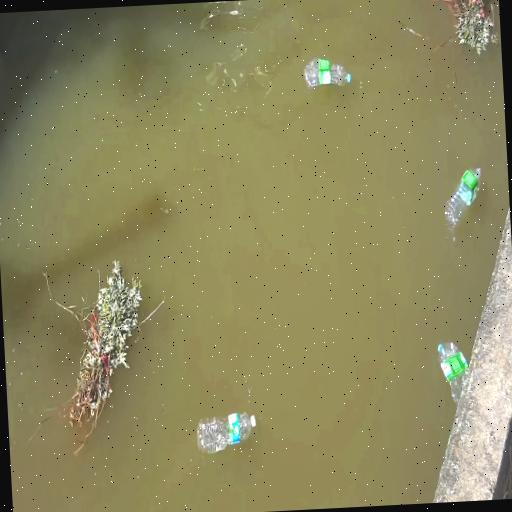plastic: (197, 413, 256, 453), (445, 168, 481, 229), (438, 343, 467, 404), (304, 58, 351, 87), (250, 415, 256, 427)
twig: (43, 260, 164, 453), (446, 0, 497, 54)
